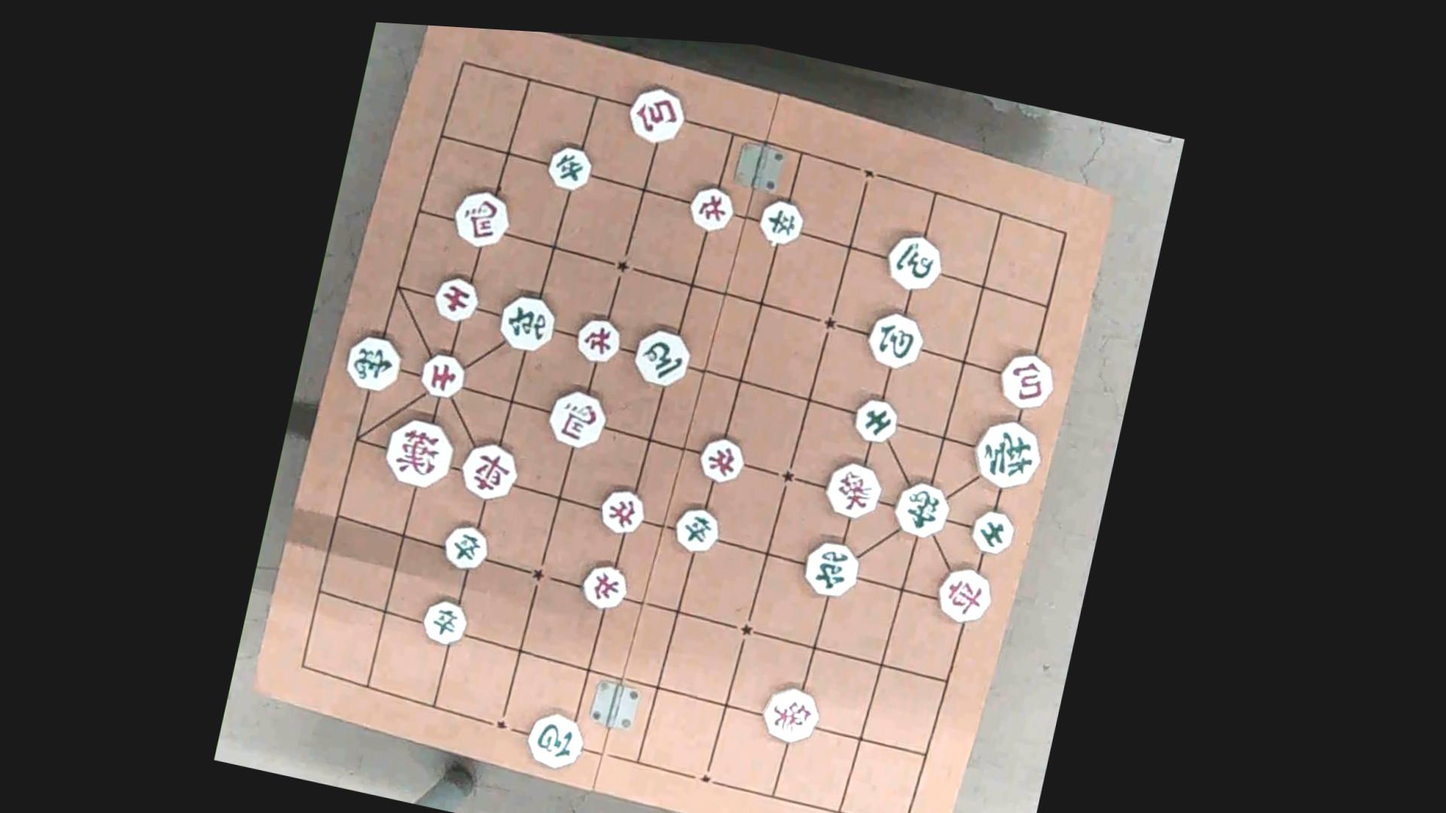cha_green: (494, 287, 557, 355), (801, 534, 863, 600)
cha_red: (459, 435, 523, 503), (933, 563, 996, 628)
jol_green: (670, 503, 724, 557), (442, 519, 491, 575), (758, 193, 806, 249), (419, 593, 467, 648), (546, 141, 594, 194)
jol_red: (573, 313, 624, 367), (686, 180, 735, 235), (599, 484, 648, 539), (581, 556, 630, 611), (698, 433, 746, 489)
ma_green: (631, 322, 694, 392), (884, 228, 945, 296)
ma_red: (451, 181, 514, 253), (542, 386, 609, 453)
po_green: (523, 705, 585, 775), (865, 309, 926, 373)
po_red: (996, 348, 1060, 415), (625, 82, 685, 150)
sa_green: (850, 392, 898, 447), (969, 504, 1016, 558)
sa_red: (417, 348, 466, 403), (431, 271, 480, 325)
sang_green: (892, 472, 953, 540), (343, 328, 404, 396)
sang_red: (822, 455, 883, 522), (760, 682, 820, 748)
wang_green: (972, 416, 1047, 495)
wang_red: (377, 411, 457, 495)
